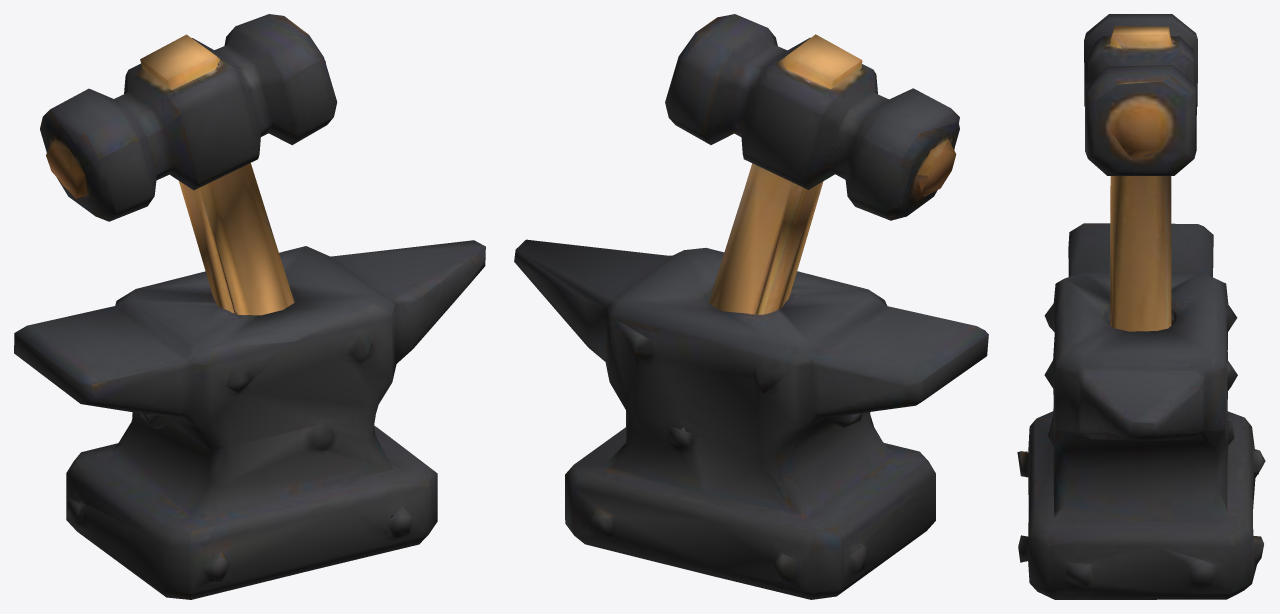
File: lg-blacksmith-hammer.glb
3 views of the same model, side by side, from view 1: azimuth 30°, elevation 25°; view 2: azimuth 150°, elevation 25°; view 3: azimuth 270°, elevation 25° (orthographic). The views are drawn at different scales.
Parts seen in each view (by area): view 1: geometry_0; view 2: geometry_0; view 3: geometry_0.
Boxes of the visible parts, x1,y1,x2,y2 form: geometry_0: (14,14,485,599); geometry_0: (514,14,988,599); geometry_0: (1017,14,1265,599).
Size of the model in its own units: 0.9087 by 1 by 0.4683.
1 material, 1 textured.
